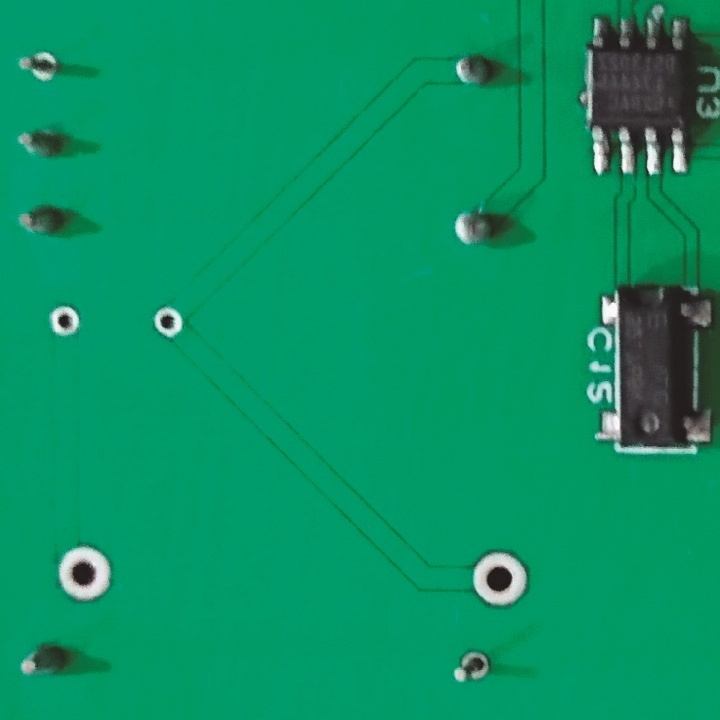F: (469, 546, 531, 608), (53, 543, 117, 601), (17, 44, 64, 86), (45, 301, 83, 341), (448, 648, 491, 682), (150, 302, 184, 340)
